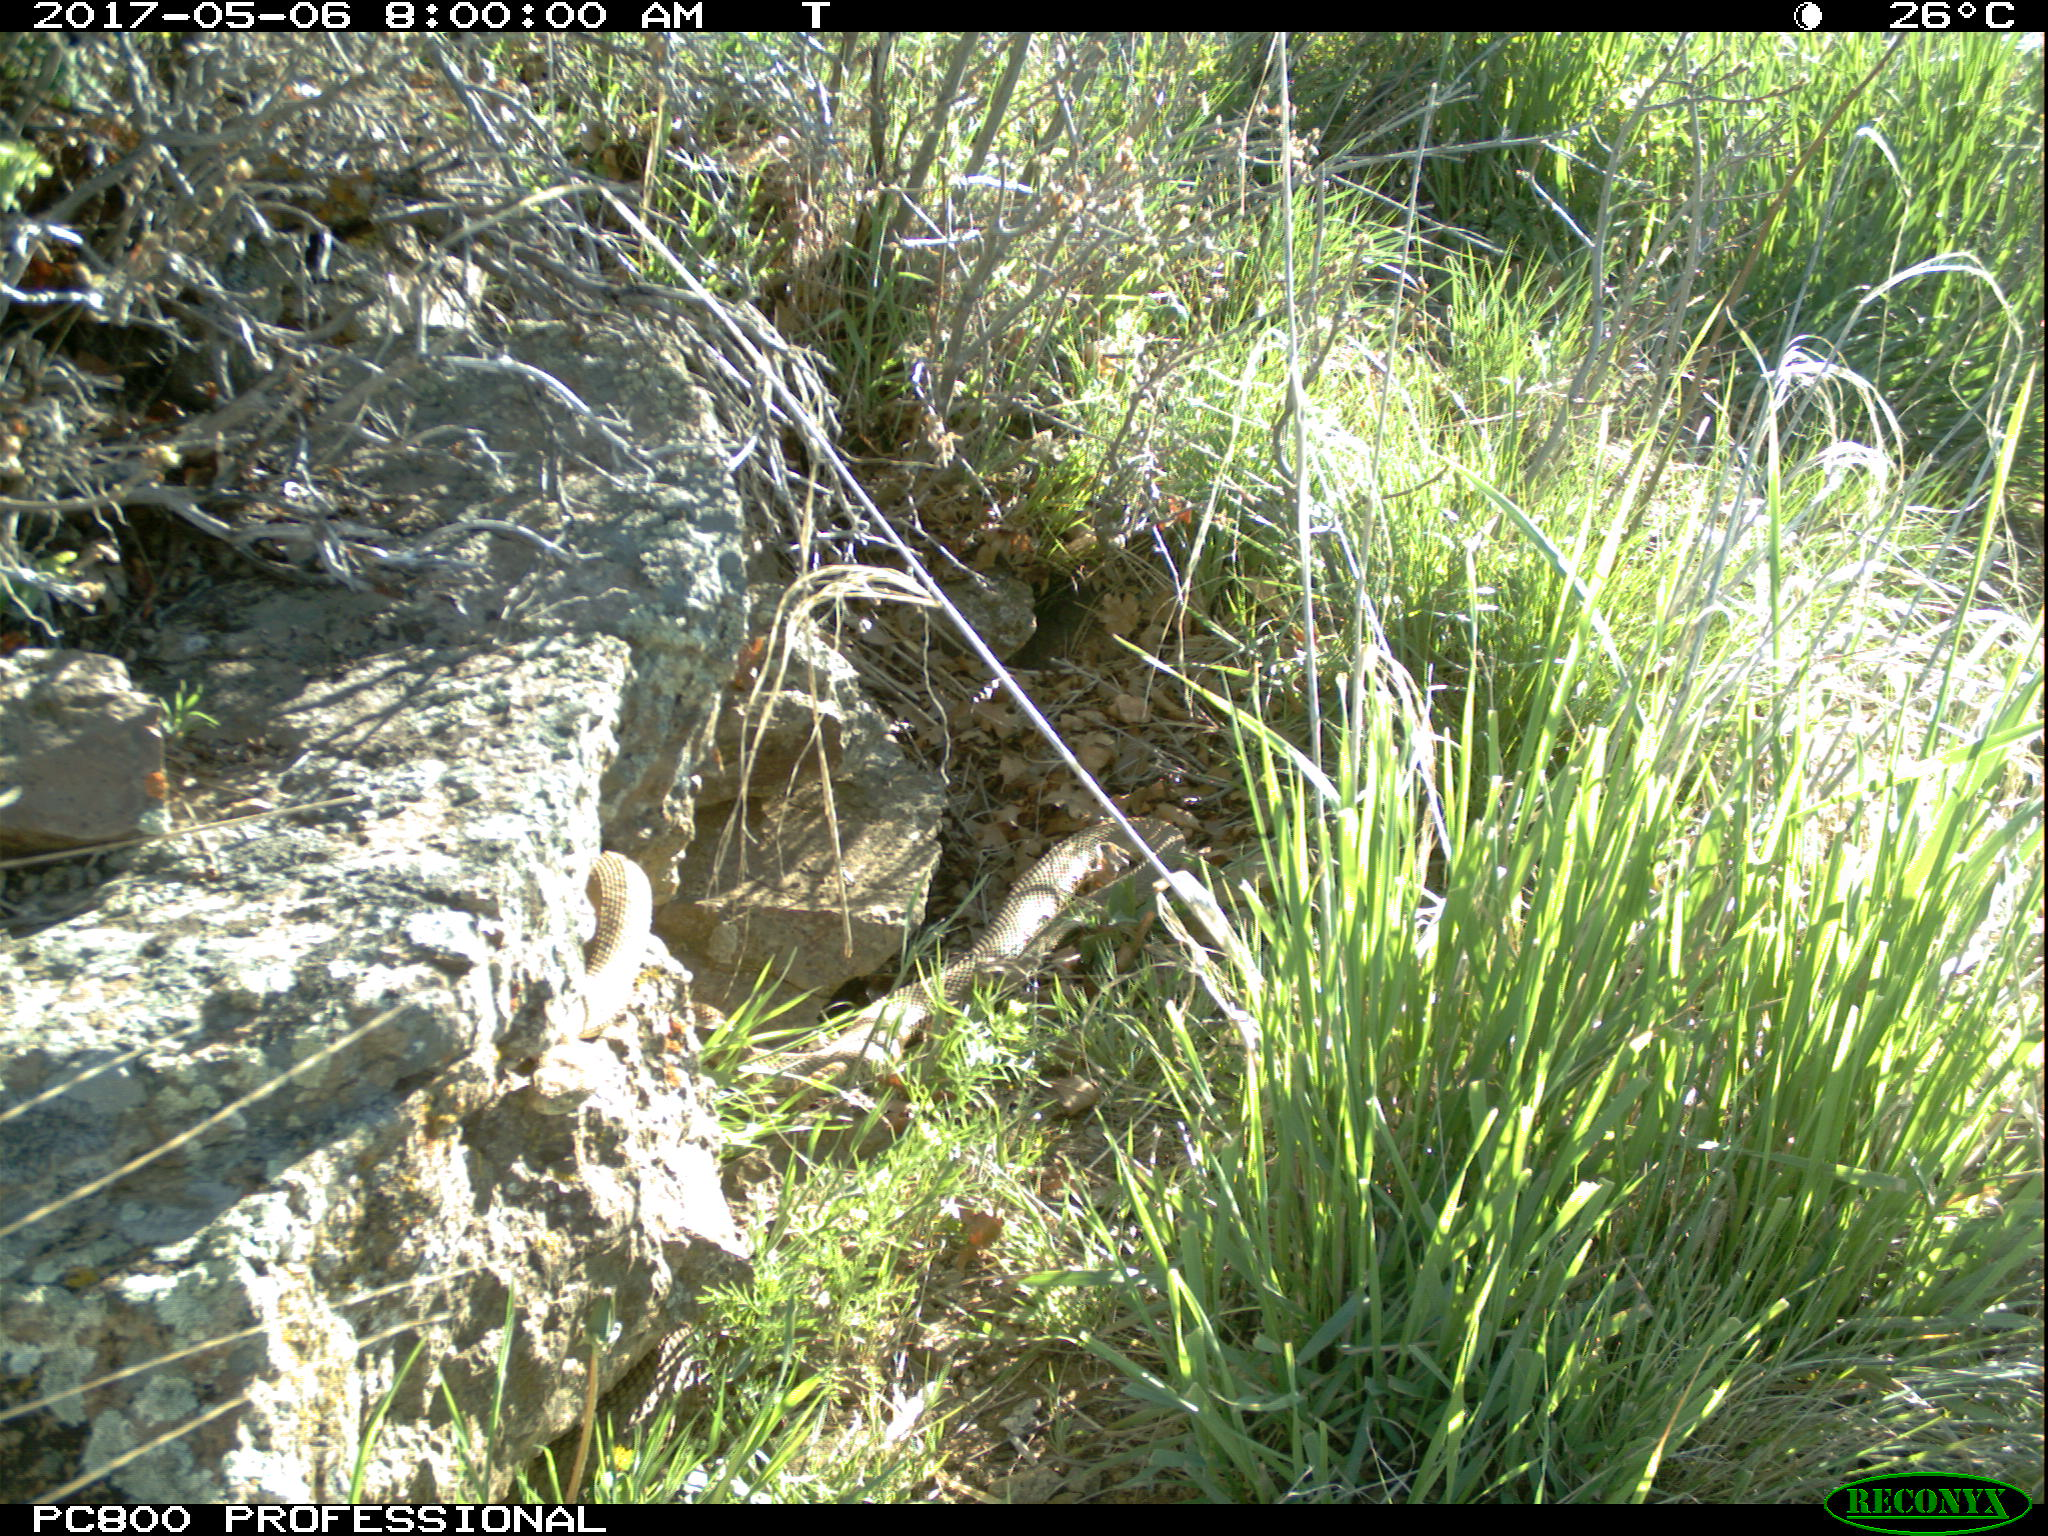snake: (751, 808, 1213, 1084), (572, 1331, 722, 1481), (576, 842, 658, 1052)
